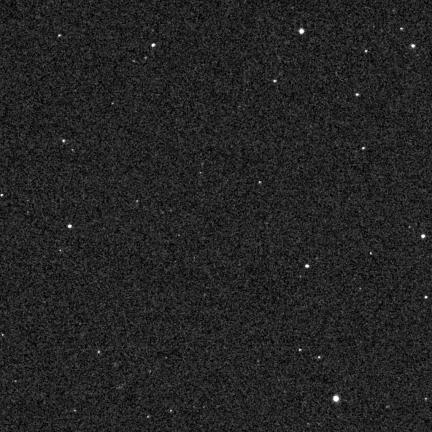blob: (333, 395, 341, 403), (299, 29, 305, 35), (411, 44, 415, 48), (365, 50, 369, 53), (259, 181, 262, 185), (68, 225, 72, 228), (273, 80, 277, 83), (370, 252, 373, 256), (299, 349, 303, 352), (400, 28, 403, 31), (422, 235, 425, 238), (424, 296, 427, 299), (362, 147, 365, 150), (306, 265, 309, 268), (152, 44, 155, 47), (58, 34, 61, 37), (356, 93, 359, 96), (63, 140, 65, 143)
